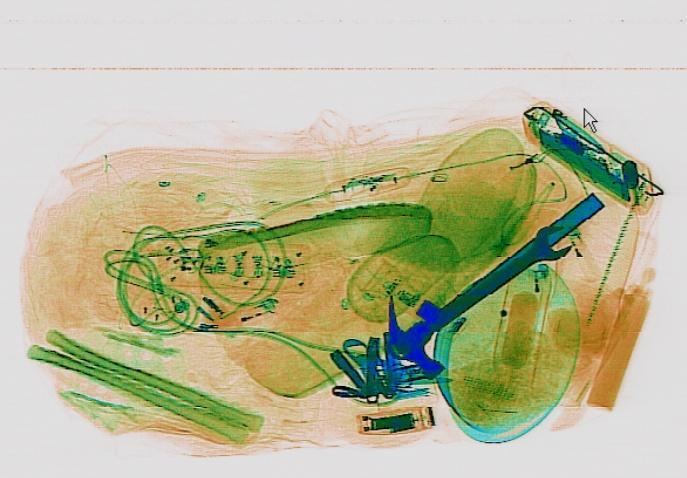wrench: (385, 224, 573, 360)
